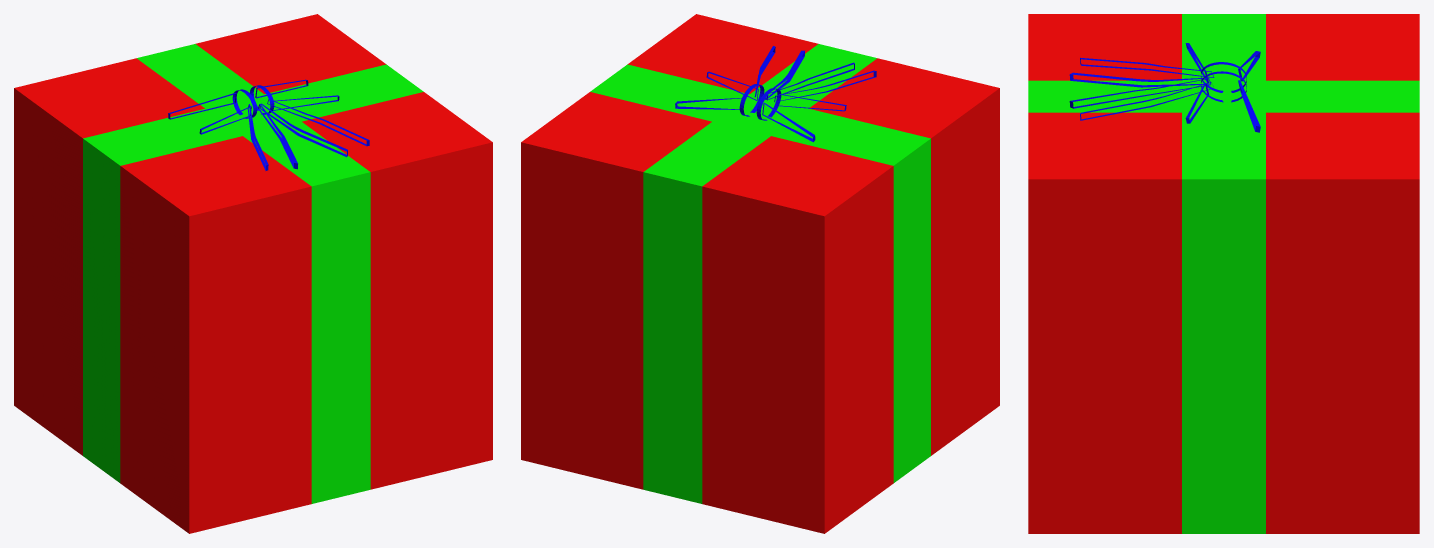
Rendered from Big Present.fbx.
3 views of the same model, side by side, from view 1: azimuth 30°, elevation 25°; view 2: azimuth 150°, elevation 25°; view 3: azimuth 270°, elevation 25° (orthographic). The views are drawn at different scales.
Parts seen in each view (by area): view 1: Big Present.fbx; view 2: Big Present.fbx; view 3: Big Present.fbx.
Part boxes in pixels (left/top/right/bottom): Big Present.fbx: left=14, top=14, right=492, bottom=533; Big Present.fbx: left=521, top=14, right=999, bottom=533; Big Present.fbx: left=1028, top=14, right=1419, bottom=533.
Size of the model in its own units: 200 by 216 by 200.
